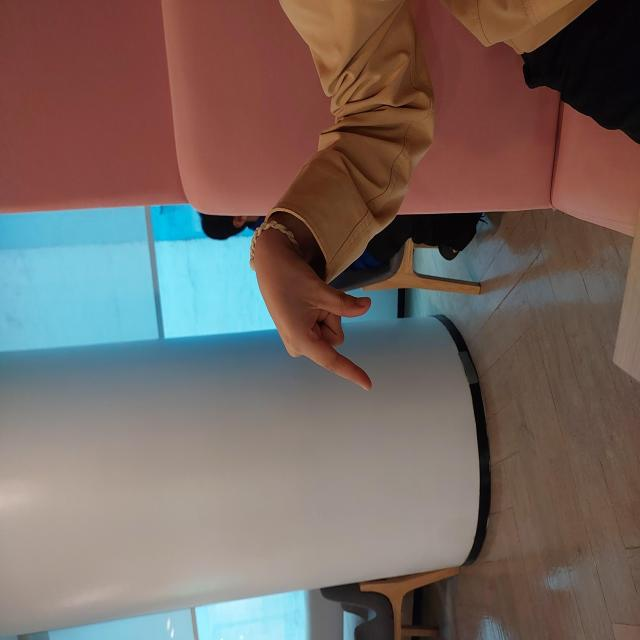Q: (242, 244, 417, 377)
